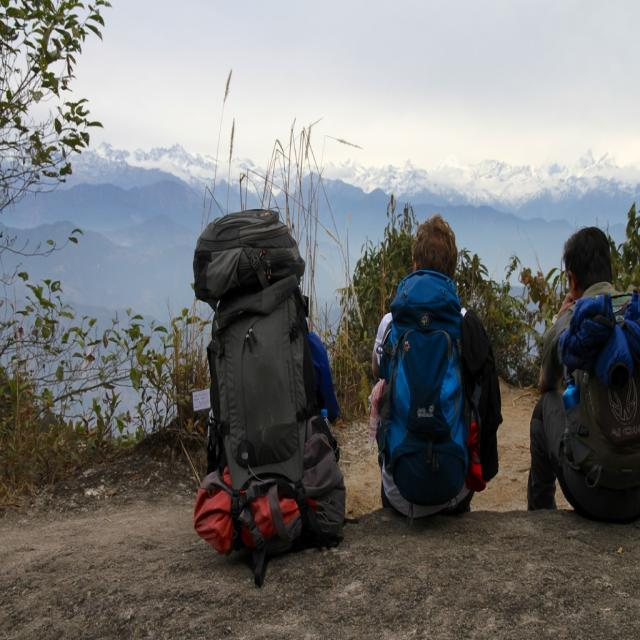backpack: (194, 289, 328, 551), (378, 275, 472, 509), (552, 302, 639, 483), (192, 208, 308, 289)
